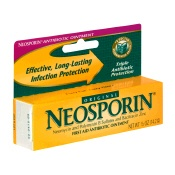grozi_19: (12, 24, 163, 150)
